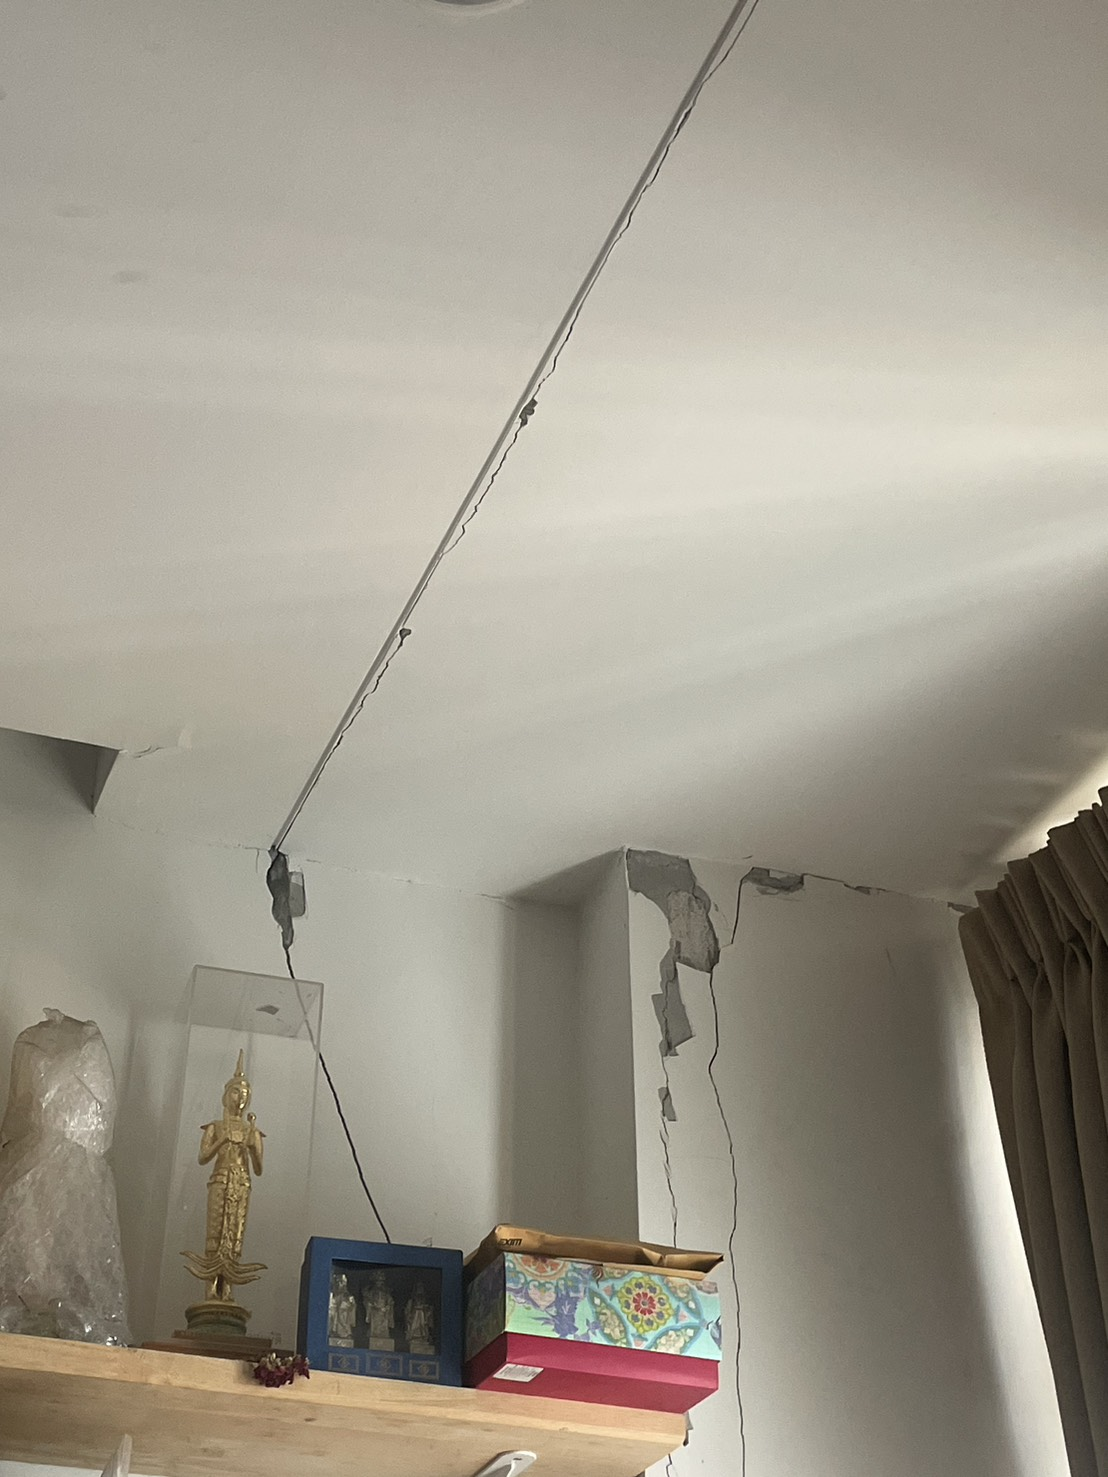Medium: (639, 846, 919, 1233)
